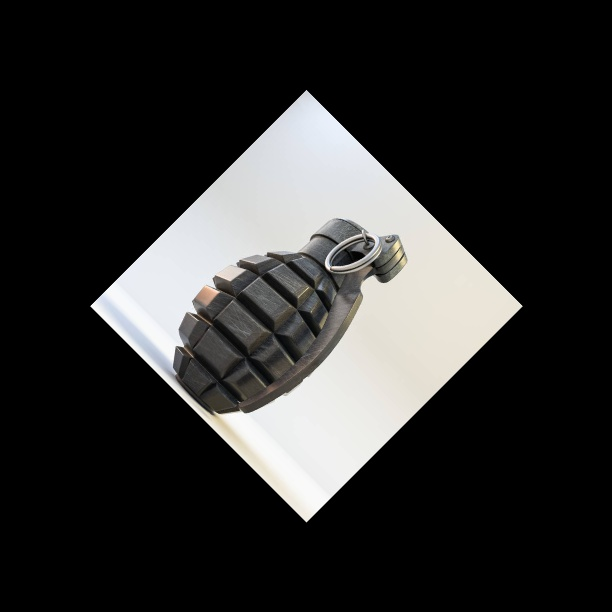e1: (168, 215, 408, 411)
